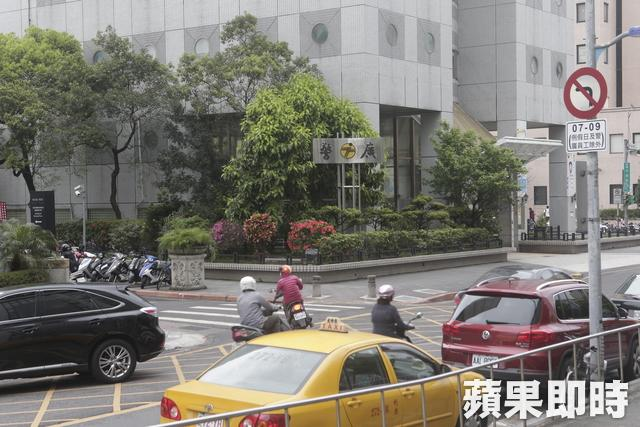car: (158, 324, 486, 427), (439, 271, 640, 384), (0, 285, 167, 386)
motorcycle: (230, 275, 286, 348), (368, 282, 426, 351), (269, 262, 315, 328)
no_left_turn: (562, 66, 607, 118)
